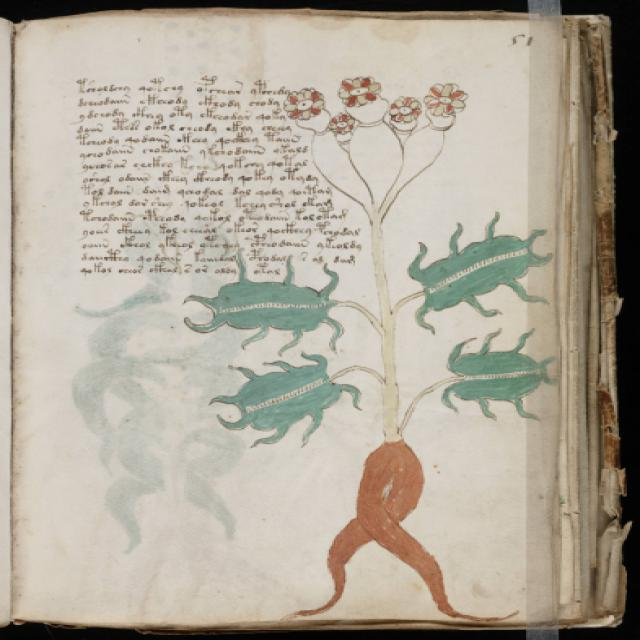plant: (157, 72, 560, 629)
